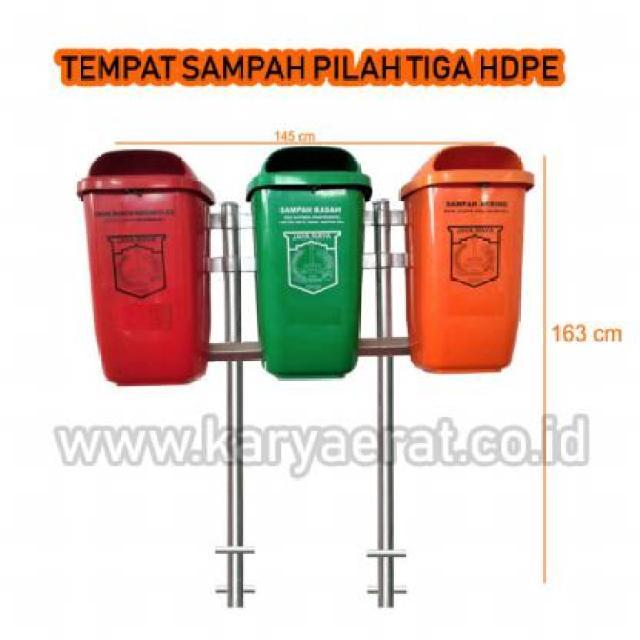garbage container: (67, 143, 230, 397), (395, 141, 544, 381), (244, 145, 377, 385)
